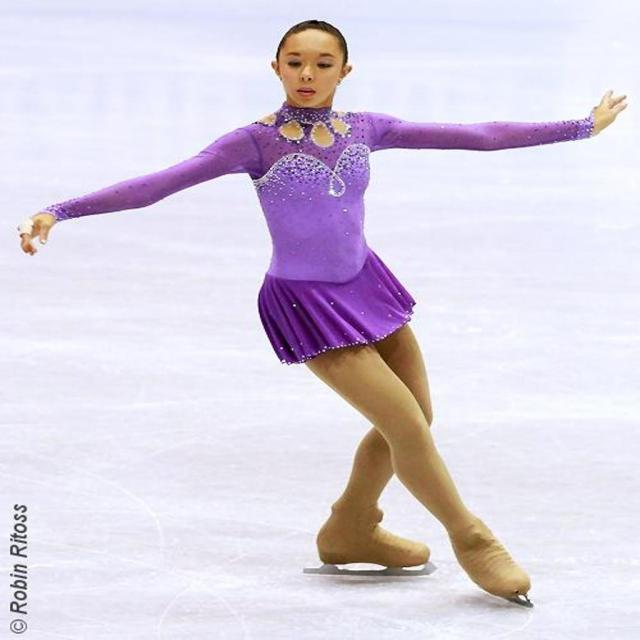nomask: (277, 28, 345, 104)
